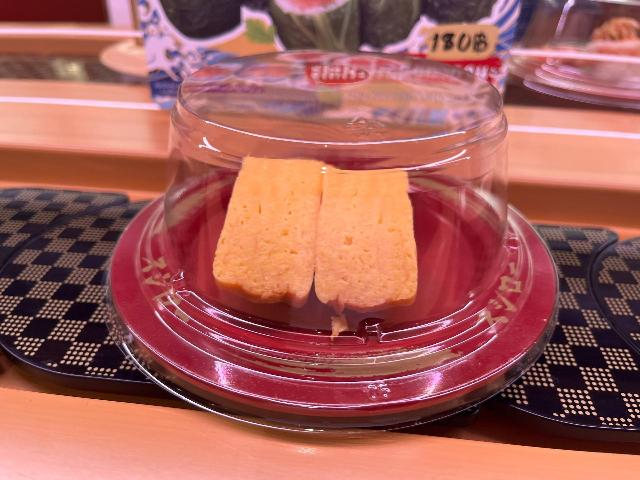janred: (152, 136, 580, 435)
